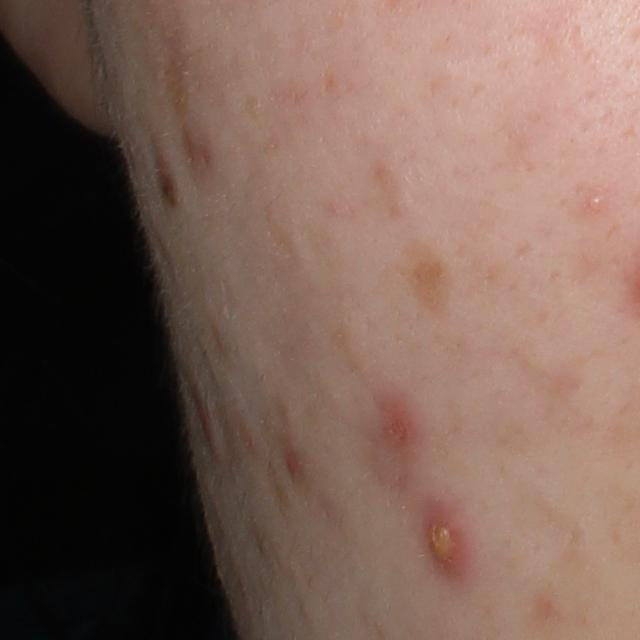papule: (379, 395, 422, 448)
pustule: (418, 494, 477, 586)
